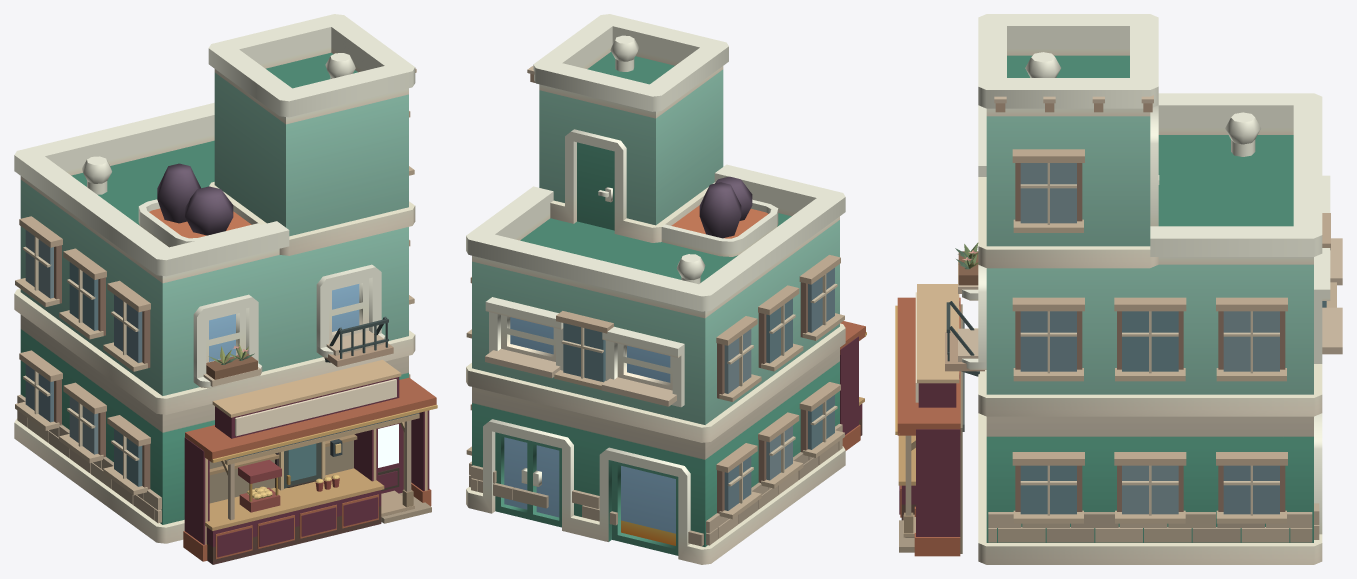
Rendered from shop-d-mint.glb.
The picture shows the model from 3 angles, left to right: view 1: azimuth 30°, elevation 25°; view 2: azimuth 150°, elevation 25°; view 3: azimuth 270°, elevation 25°; orthographic projection. The views are drawn at different scales.
Visible parts, largest first — view 1: building-d, GOATFLIX_Joinery, Masonry_and_stairwell_windows, Residential_Portico, Upper_floor_balconies_and_carved_cornice; view 2: building-d, Masonry_and_stairwell_windows, Upper_floor_balconies_and_carved_cornice, GOATFLIX_Joinery; view 3: building-d, Masonry_and_stairwell_windows, GOATFLIX_Joinery, Upper_floor_balconies_and_carved_cornice, Residential_Portico.
Boxes of the visible parts, left/top/right/bottom form: building-d: left=14, top=14, right=415, bottom=543; GOATFLIX_Joinery: left=183, top=359, right=437, bottom=564; Masonry_and_stairwell_windows: left=15, top=111, right=414, bottom=523; Residential_Portico: left=221, top=413, right=419, bottom=522; Upper_floor_balconies_and_carved_cornice: left=203, top=68, right=416, bottom=386; building-d: left=466, top=14, right=845, bottom=564; Masonry_and_stairwell_windows: left=466, top=255, right=844, bottom=546; Upper_floor_balconies_and_carved_cornice: left=485, top=66, right=676, bottom=406; GOATFLIX_Joinery: left=840, top=321, right=866, bottom=450; building-d: left=962, top=14, right=1330, bottom=564; Masonry_and_stairwell_windows: left=988, top=149, right=1336, bottom=542; GOATFLIX_Joinery: left=895, top=284, right=962, bottom=556; Upper_floor_balconies_and_carved_cornice: left=945, top=95, right=1342, bottom=376; Residential_Portico: left=903, top=320, right=964, bottom=537.
Bounding box in the file's own units: 0.912 × 1.29 × 1.09.
55 materials, 1 textured.
